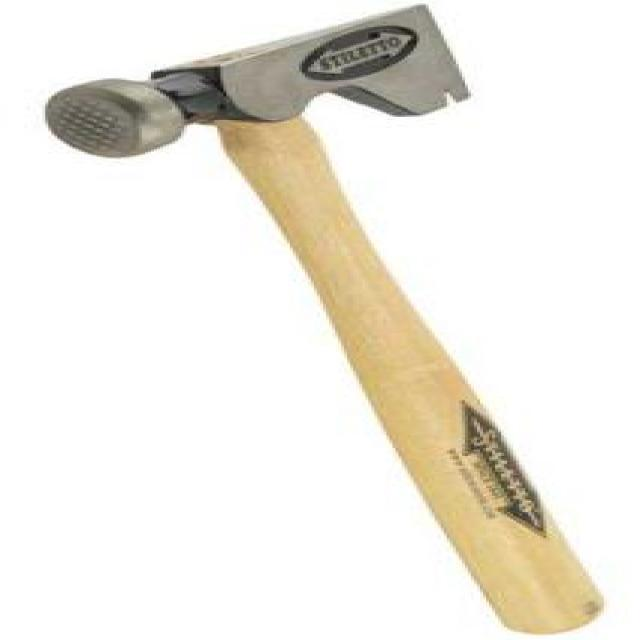hammer: (18, 0, 640, 637)
